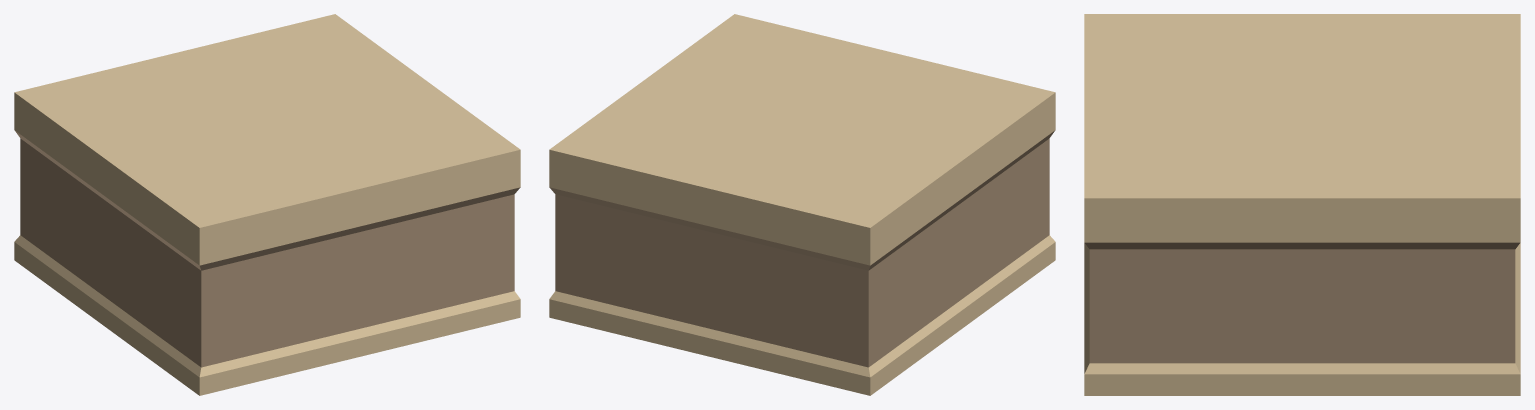
Rendered from terrace_plinth.glb.
3 views of the same model, side by side, from view 1: azimuth 30°, elevation 25°; view 2: azimuth 150°, elevation 25°; view 3: azimuth 270°, elevation 25° (orthographic). The views are drawn at different scales.
Parts seen in each view (by area): view 1: Terrace plinth; view 2: Terrace plinth; view 3: Terrace plinth.
Boxes of the visible parts, x1,y1,x2,y2 form: Terrace plinth: (14,14,520,395); Terrace plinth: (549,14,1055,395); Terrace plinth: (1084,14,1520,395).
Bounding box in the file's own units: 1 × 0.5 × 1.
